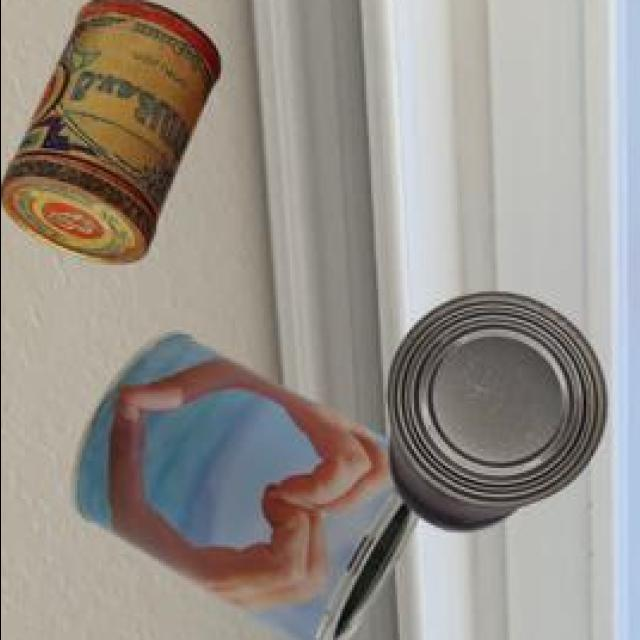logam: (75, 336, 421, 640), (1, 1, 223, 264), (390, 297, 608, 536)
